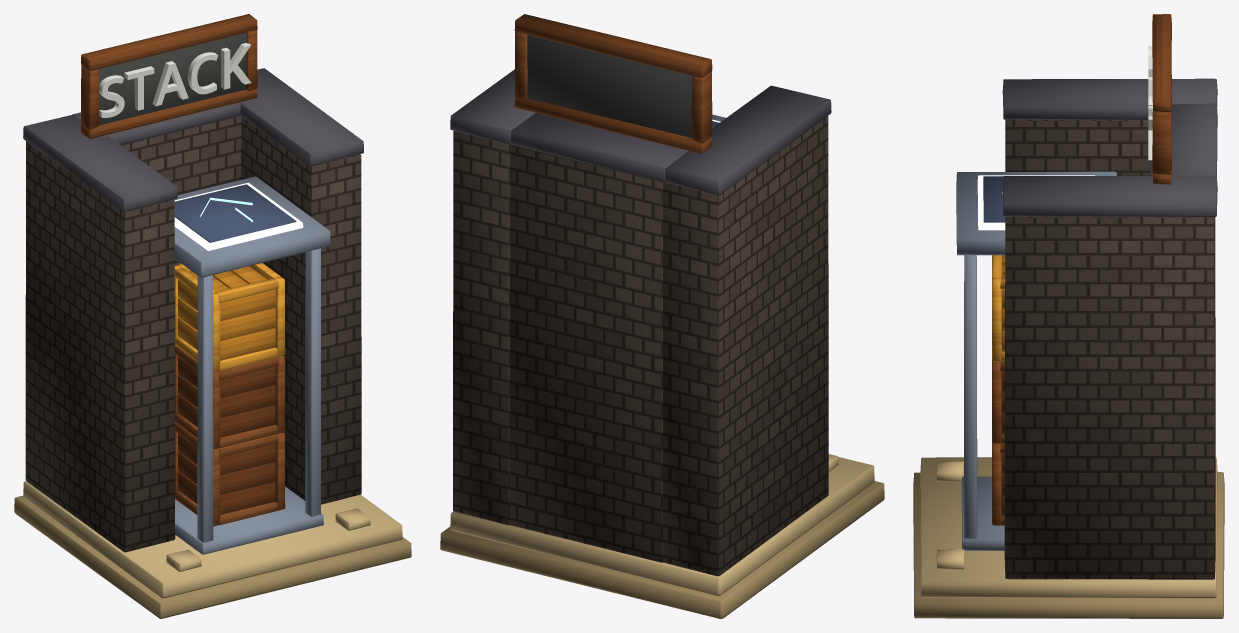
File: 42_stack_tower.glb
The picture shows the model from 3 angles, left to right: view 1: azimuth 30°, elevation 25°; view 2: azimuth 150°, elevation 25°; view 3: azimuth 270°, elevation 25°; orthographic projection. The views are drawn at different scales.
Visible parts, largest first — view 1: BrickWallLeft, BrickWallRight, BaseUpper, BaseLower, CopingLeft, CopingRight, BrickWallBack, SlateBoard, LiftRoof, GuideColumn_-1_1, GuideColumn_1_1, ArrowPadFace (+31 smaller); view 2: BrickWallLeft, BrickWallBack, BrickWallRight, BaseLower, SlateBoard, BaseUpper, CopingLeft, CopingBack, FrameTop, CopingRight, FrameBottom, FrameSide_-1 (+1 smaller); view 3: BrickWallRight, BaseUpper, CopingRight, BaseLower, BrickWallLeft, CopingLeft, GuideColumn_1_1, CopingBack, LiftRoof, FrameTop, LiftFloor, FrameSide_1 (+8 smaller).
Boxes of the visible parts, left/top/right/bottom form: BrickWallLeft: left=25, top=141, right=175, bottom=552; BrickWallRight: left=241, top=116, right=361, bottom=504; BaseUpper: left=23, top=481, right=402, bottom=598; BaseLower: left=14, top=495, right=411, bottom=618; CopingLeft: left=23, top=115, right=177, bottom=211; CopingRight: left=239, top=68, right=363, bottom=166; BrickWallBack: left=121, top=116, right=241, bottom=265; SlateBoard: left=99, top=32, right=246, bottom=125; LiftRoof: left=174, top=176, right=330, bottom=277; GuideColumn_-1_1: left=197, top=275, right=213, bottom=542; GuideColumn_1_1: left=305, top=248, right=320, bottom=516; ArrowPadFace: left=174, top=184, right=296, bottom=242; BrickWallLeft: left=663, top=116, right=828, bottom=576; BrickWallBack: left=510, top=144, right=663, bottom=562; BrickWallRight: left=453, top=130, right=510, bottom=525; BaseLower: left=440, top=481, right=884, bottom=618; SlateBoard: left=527, top=35, right=691, bottom=137; BaseUpper: left=450, top=457, right=874, bottom=595; CopingLeft: left=665, top=85, right=831, bottom=195; CopingBack: left=510, top=113, right=688, bottom=182; FrameTop: left=514, top=14, right=712, bottom=77; CopingRight: left=450, top=69, right=534, bottom=144; FrameBottom: left=514, top=97, right=712, bottom=153; FrameSide_-1: left=691, top=71, right=712, bottom=143; BrickWallRight: left=1004, top=216, right=1215, bottom=579; BaseUpper: left=920, top=457, right=1217, bottom=598; CopingRight: left=1002, top=175, right=1217, bottom=216; BaseLower: left=913, top=472, right=1224, bottom=618; BrickWallLeft: left=1005, top=119, right=1215, bottom=342; CopingLeft: left=1002, top=78, right=1217, bottom=119; GuideColumn_1_1: left=963, top=255, right=977, bottom=538; CopingBack: left=1150, top=103, right=1217, bottom=175; LiftRoof: left=956, top=171, right=1116, bottom=255; FrameTop: left=1152, top=14, right=1171, bottom=112; LiftFloor: left=961, top=476, right=1004, bottom=550; FrameSide_1: left=1152, top=111, right=1171, bottom=174.
Bounding box in the file's own units: 1.74 × 3.07 × 1.74.
Materials: 15 (6 with a texture image).
